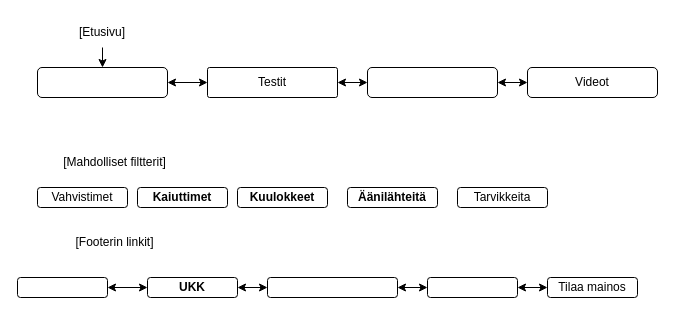
Some shapes in this 675 by 315 pixel diagram are drawn without their labels. Here are the shapes that lost their labels. From the top down, the centre of each, then its label:
At point (102, 82): "Uutiset".
At point (432, 82): "Artikkelit".
At point (62, 287): "Meistä".
At point (332, 287): "Uutiskirjeen tilaus".
At point (472, 287): "Merkit".
